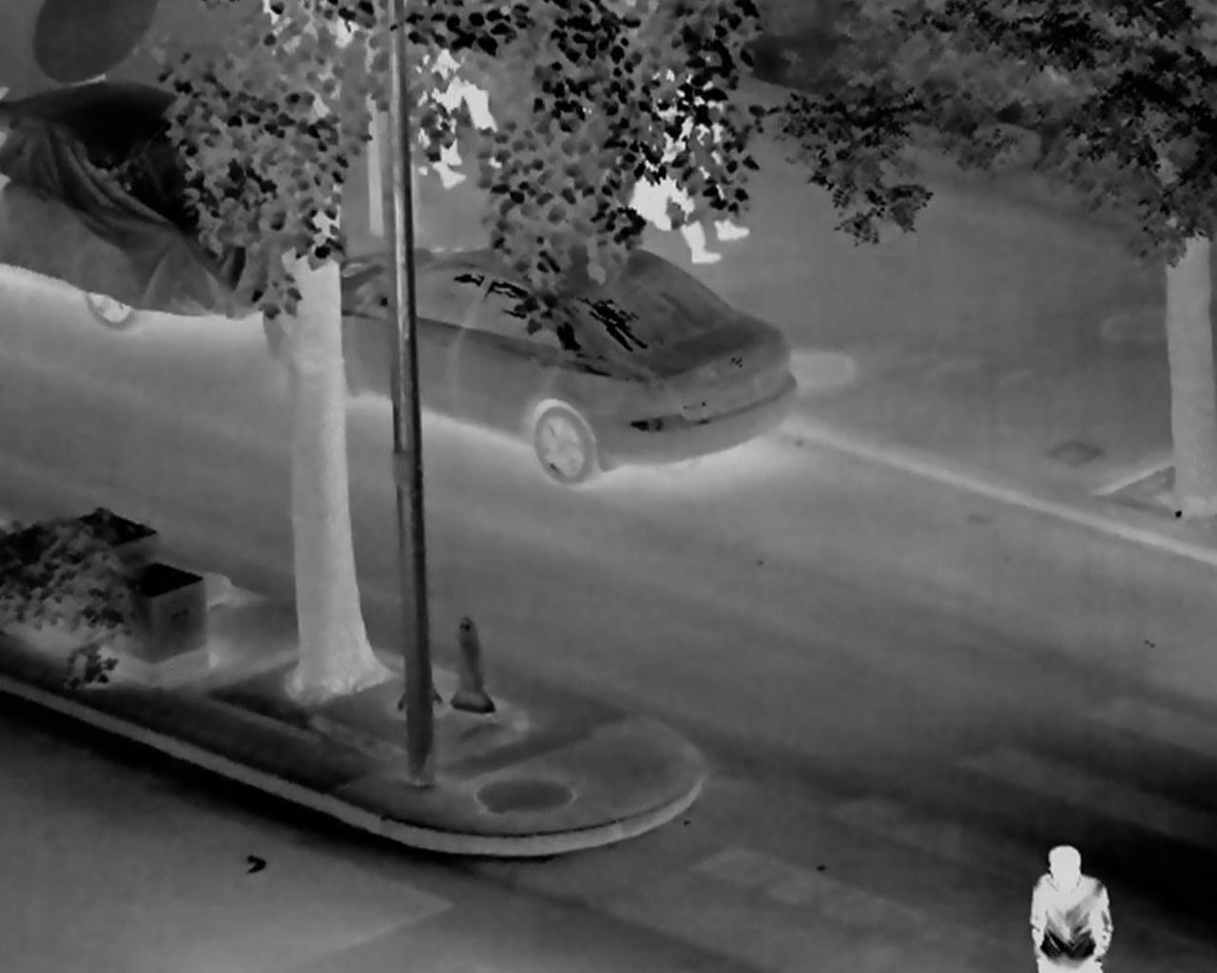person: (619, 68, 721, 268), (652, 47, 749, 242), (1027, 845, 1117, 971)
